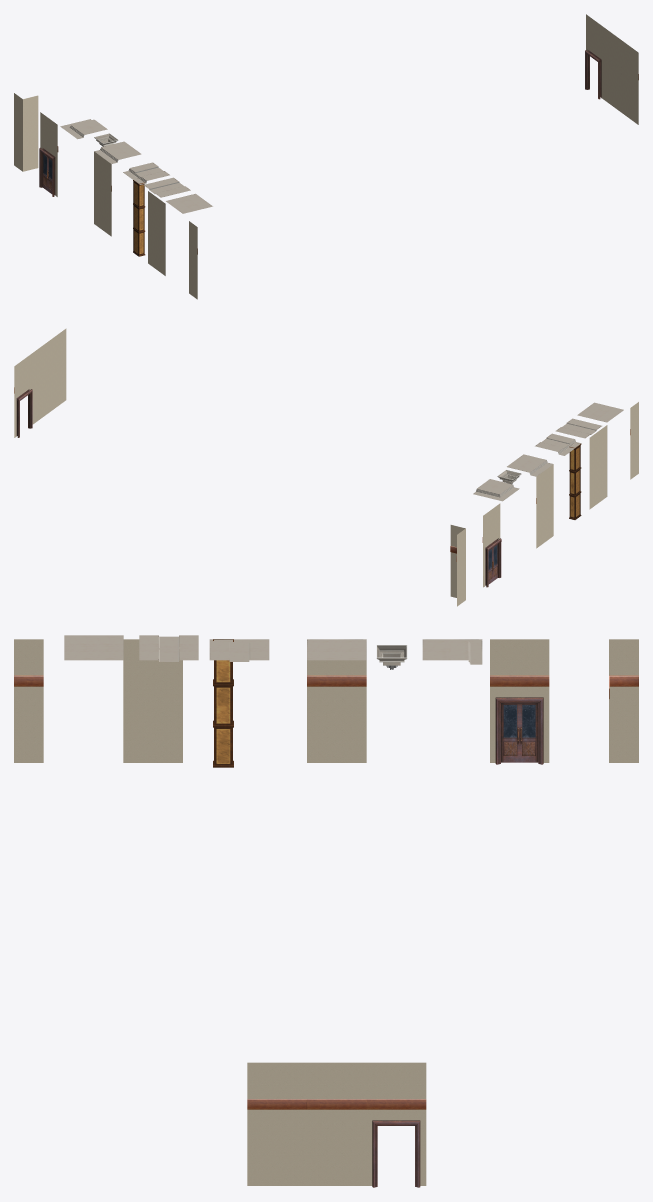
The model's file is Hall_1_Asset.fbx.
3 renders of one model, top to bottom at view 1: azimuth 30°, elevation 25°; view 2: azimuth 150°, elevation 25°; view 3: azimuth 270°, elevation 25°, orthographic. The views are drawn at different scales.
Visible parts, largest first — view 1: wall_Cornor, wall, wall002, Single_Wall, wall001, Wall_Door001, Wall_Door, Pillar, wall_Half, Top_Straigth, Top_Cut, Top_Cut001 (+2 smaller); view 2: Single_Wall, wall, wall001, wall002, wall_Cornor, Wall_Door001, Wall_Door, Pillar, wall_Half, Top_Coronor, Top_Straigth, Top_Cut (+2 smaller); view 3: wall001, wall002, Single_Wall, wall, Wall_Door001, Wall_Door, wall_Half, wall_Cornor, Pillar, Top_Cut001, Top_Straigth001, Top_Coronor (+4 smaller).
Boxes of the visible parts, <box> form: wall_Cornor: <box>14,93,38,171</box>; wall: <box>94,151,111,236</box>; wall002: <box>603,27,620,111</box>; Single_Wall: <box>148,191,165,275</box>; wall001: <box>621,40,638,124</box>; Wall_Door001: <box>585,14,603,99</box>; Wall_Door: <box>39,112,58,196</box>; Pillar: <box>133,180,145,256</box>; wall_Half: <box>189,221,197,299</box>; Top_Straigth: <box>94,141,141,163</box>; Top_Cut: <box>123,162,169,184</box>; Top_Cut001: <box>144,177,190,197</box>; Single_Wall: <box>589,425,607,509</box>; wall: <box>536,464,553,548</box>; wall001: <box>49,328,66,412</box>; wall002: <box>31,341,48,424</box>; wall_Cornor: <box>450,525,465,606</box>; Wall_Door001: <box>14,354,32,437</box>; Wall_Door: <box>482,503,501,587</box>; Pillar: <box>569,444,581,519</box>; wall_Half: <box>630,402,638,479</box>; Top_Coronor: <box>473,479,519,501</box>; Top_Straigth: <box>507,454,553,476</box>; Top_Cut: <box>535,433,581,455</box>; wall001: <box>247,1062,306,1185</box>; wall002: <box>307,1062,366,1185</box>; Single_Wall: <box>123,639,182,762</box>; wall: <box>307,660,366,762</box>; Wall_Door001: <box>366,1062,426,1187</box>; Wall_Door: <box>490,639,549,764</box>; wall_Half: <box>14,639,43,762</box>; wall_Cornor: <box>609,639,638,762</box>; Pillar: <box>213,639,233,767</box>; Top_Cut001: <box>139,635,198,661</box>; Top_Straigth001: <box>64,635,123,660</box>; Top_Coronor: <box>422,639,482,664</box>.
Size of the model in its own units: 51.63 by 7.25 by 31.97.
